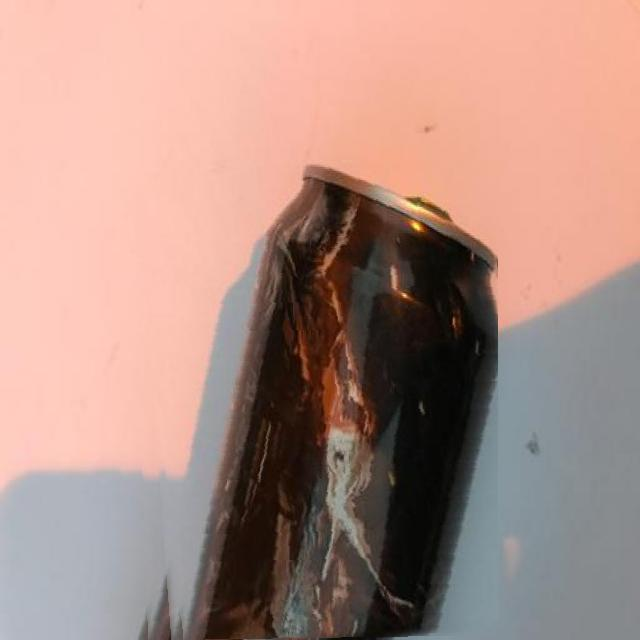recyclable: (136, 163, 498, 640)
